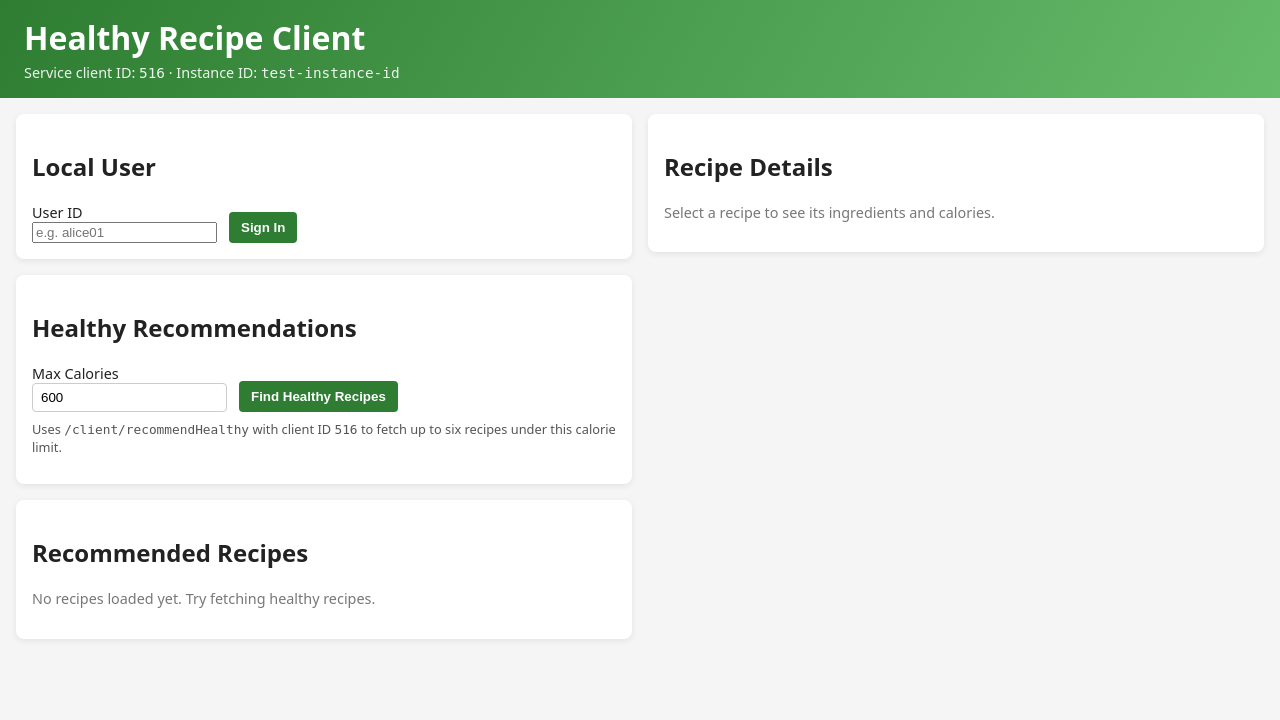
Scenario: App component › allows user to sign in and shows signed-in state
Type "alice01" into the field labelled "User ID". click: x=124, y=232
box: [32, 222, 217, 243]
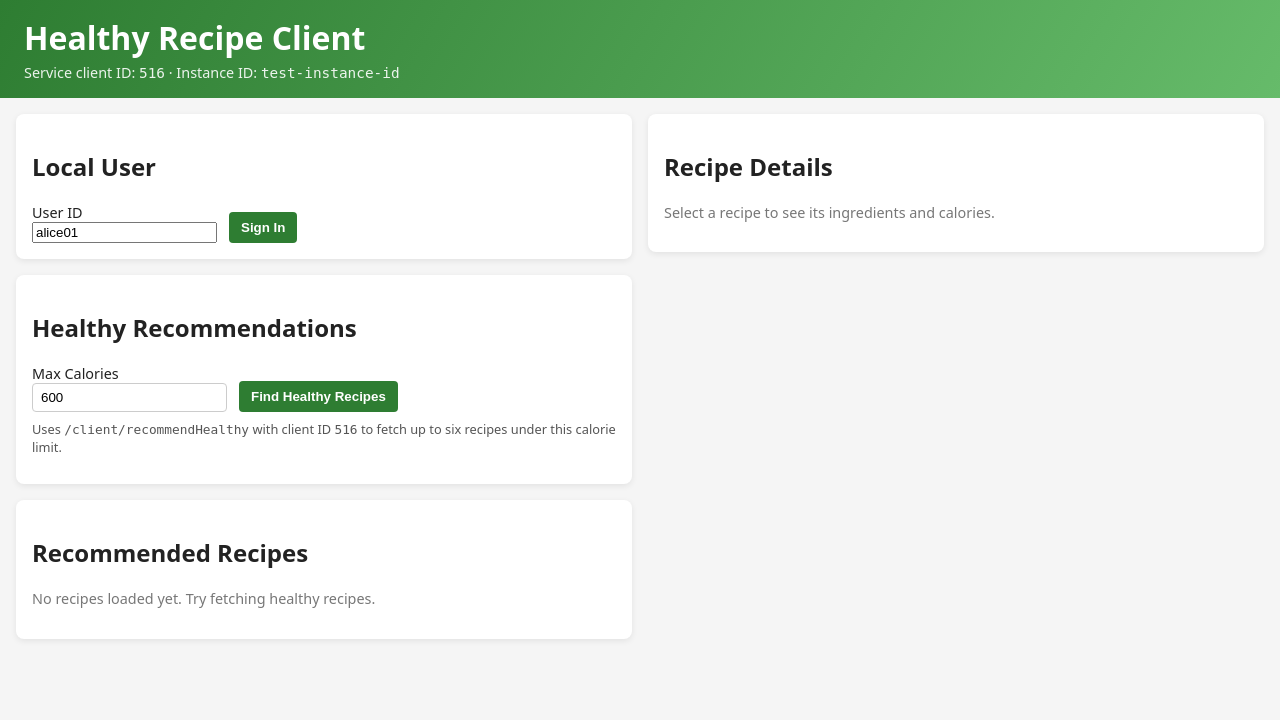
Click the button "Sign In". click: x=263, y=227
box: [229, 212, 297, 243]
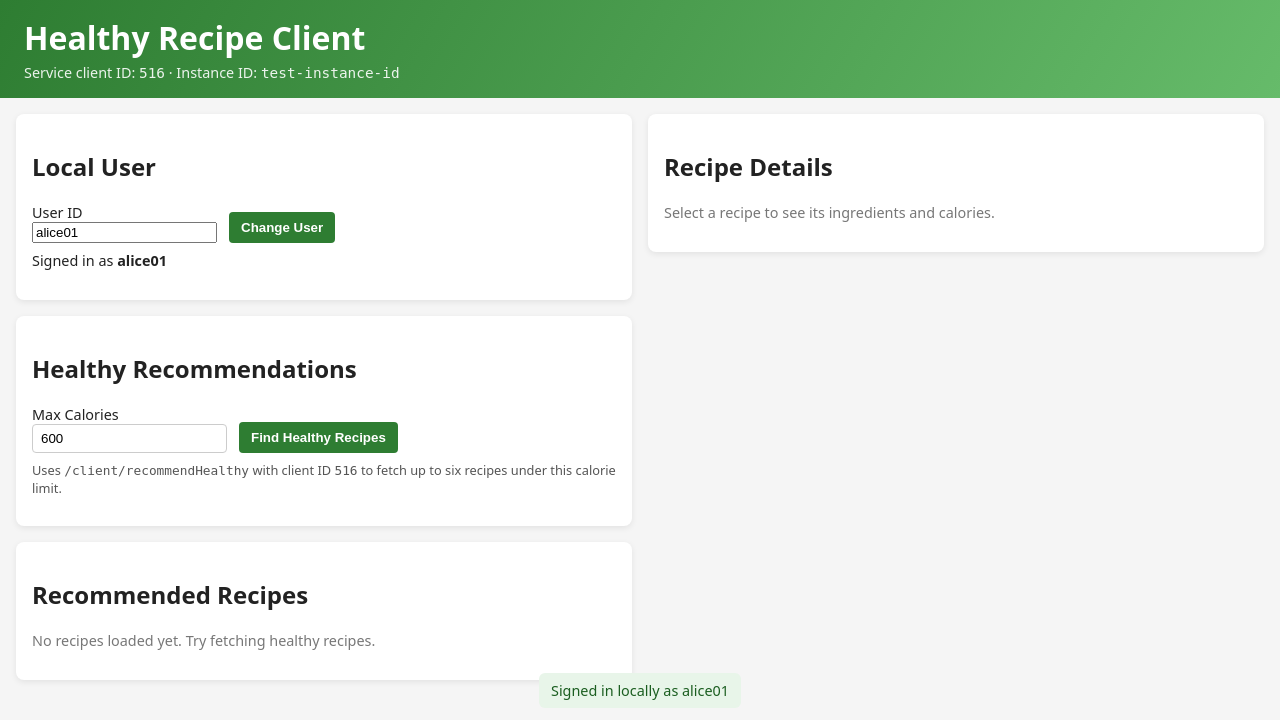
expect the text "Signed in as alice01" is shown: met, box [32, 251, 167, 270]
